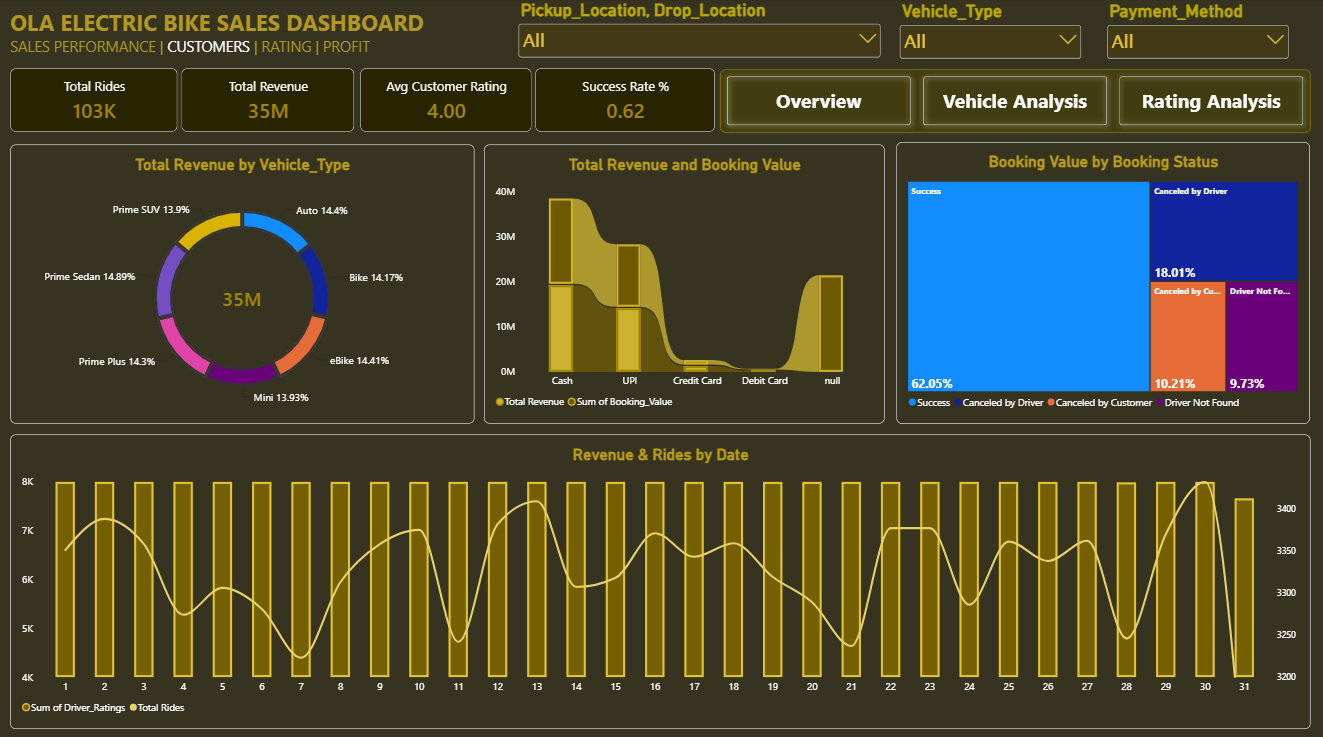

What the dashboard file says about the page in this screenshot:
{"tool":"powerbi","page":{"name":"Customer Analysis","canvas":[1920,1080],"ordinal":3},"visuals":[{"type":"cardVisual","fields":{"Data":["July.Avg Customer Rating"]},"box":[522.3,103.1,248,92],"z":0},{"type":"cardVisual","fields":{"Data":["July.Total Revenue"]},"box":[264.6,103.1,250.7,92.9],"z":1000},{"type":"slicer","fields":{"Values":["July.Vehicle_Type"]},"box":[1300,6,272,90],"z":3000},{"type":"slicer","fields":{"Values":["July.Pickup_Location","July.Drop_Location"]},"box":[748,4,534,90],"z":4000},{"type":"slicer","fields":{"Values":["July.Payment_Method"]},"box":[1600,6,272,90],"z":5000},{"type":"cardVisual","fields":{"Data":["July.Total Rides"]},"box":[16,104,242,92],"z":6000},{"type":"cardVisual","fields":{"Data":["July.Success Rate %"]},"box":[776.9,103.1,260,92.9],"z":7000},{"type":"donutChart","fields":{"Series":["July.Vehicle_Type"],"Y":["July.Total Revenue"]},"box":[16,214,672,404],"z":8000},{"type":"treemap","title":"Booking Value by Booking Status","fields":{"Group":["July.Booking_Status"],"Values":["Sum(July.Booking_Value)"]},"box":[1300,210,598,408],"z":9000},{"type":"textbox","box":[16,14,630,80],"z":10000},{"type":"lineStackedColumnComboChart","title":"Revenue & Rides by Date","fields":{"Category":["July.Date.Variation.Date Hierarchy.Day"],"Y":["Sum(July.Driver_Ratings)"],"Y2":["July.Total Rides"]},"box":[16,634,1882,426],"z":11000},{"type":"pageNavigator","box":[1044.4,104.4,854.4,91.1],"z":12000},{"type":"ribbonChart","title":"Total Revenue and Booking Value","fields":{"Category":["July.Payment_Method"],"Y":["July.Total Revenue","Sum(July.Booking_Value)"]},"box":[702,214,580,404],"z":13000}]}

Visuals, with their boxes in screenshot pixels (x1, y1, x2, y2), scaled from the page's 1920x1080 canvas onto the 1323x737 screenshot:
cardVisual - July.Avg Customer Rating: locate(360, 70, 531, 133)
cardVisual - July.Total Revenue: locate(182, 70, 355, 134)
slicer - July.Vehicle_Type: locate(896, 4, 1083, 66)
slicer - July.Pickup_Location x July.Drop_Location: locate(515, 3, 883, 64)
slicer - July.Payment_Method: locate(1102, 4, 1290, 66)
cardVisual - July.Total Rides: locate(11, 71, 178, 134)
cardVisual - July.Success Rate %: locate(535, 70, 714, 134)
donutChart - July.Vehicle_Type x July.Total Revenue: locate(11, 146, 474, 422)
"Booking Value by Booking Status" treemap: locate(896, 143, 1308, 422)
textbox: locate(11, 10, 445, 64)
"Revenue & Rides by Date" lineStackedColumnComboChart: locate(11, 433, 1308, 723)
pageNavigator: locate(720, 71, 1308, 133)
"Total Revenue and Booking Value" ribbonChart: locate(484, 146, 883, 422)
